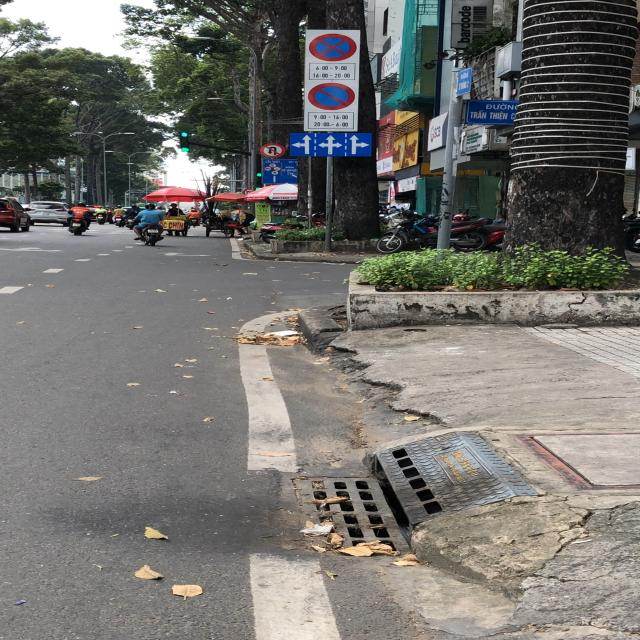Bien bao cam do xe: (310, 82, 358, 112)
Bien bao cam dung xe va do xe: (306, 29, 359, 64)
Bien bao cam quay dau xe: (260, 142, 290, 160)
